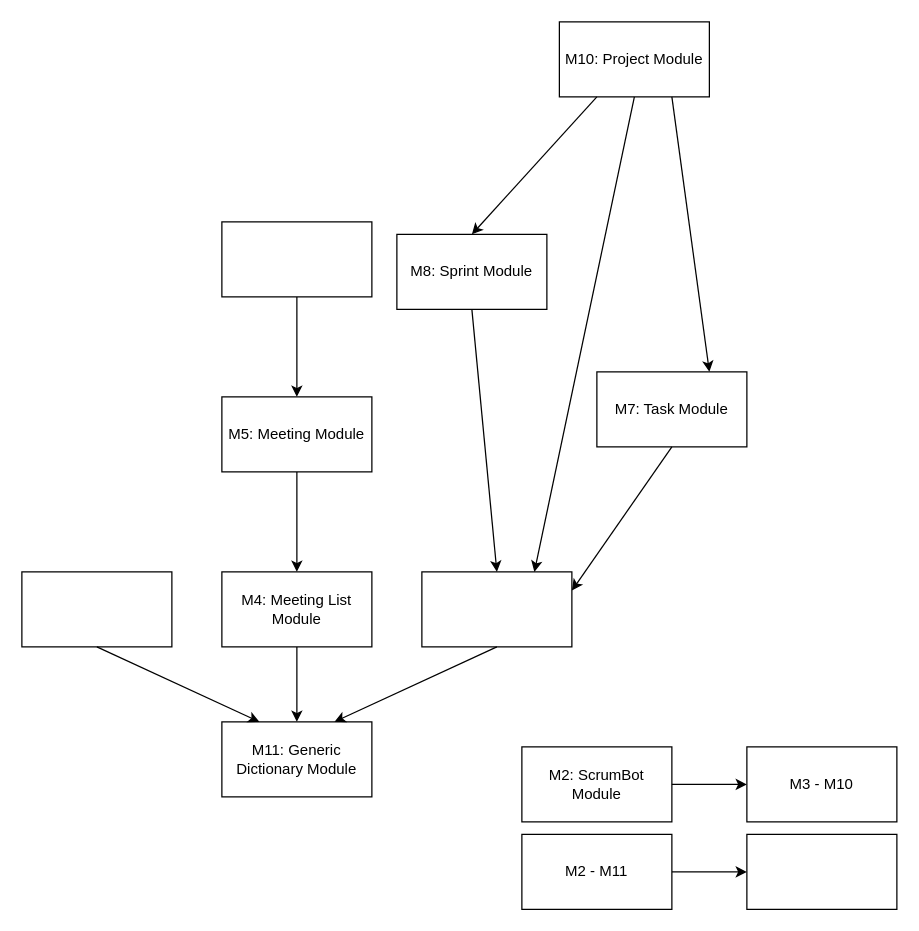
Image size: 919x931. Some labels were removed from this diagram. Each missing label, with the centre of its shape:
M1: Hardware-Hiding Module: the point at 821,871
M3: Meeting Types Module: the point at 296,259
M6: Task List Module: the point at 496,609
M9: Project List Module: the point at 96,609
